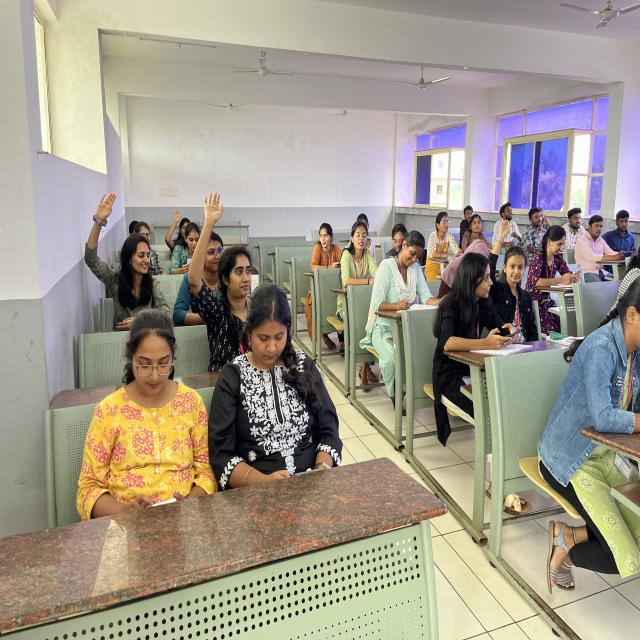Hand Rising: (186, 188, 264, 356), (83, 180, 160, 339), (486, 214, 542, 332)
Reading: (170, 222, 204, 277)
Using Phone: (208, 279, 339, 499), (434, 251, 522, 384), (528, 222, 586, 301), (572, 212, 634, 272), (309, 220, 346, 283)
Writing: (374, 230, 442, 334)
